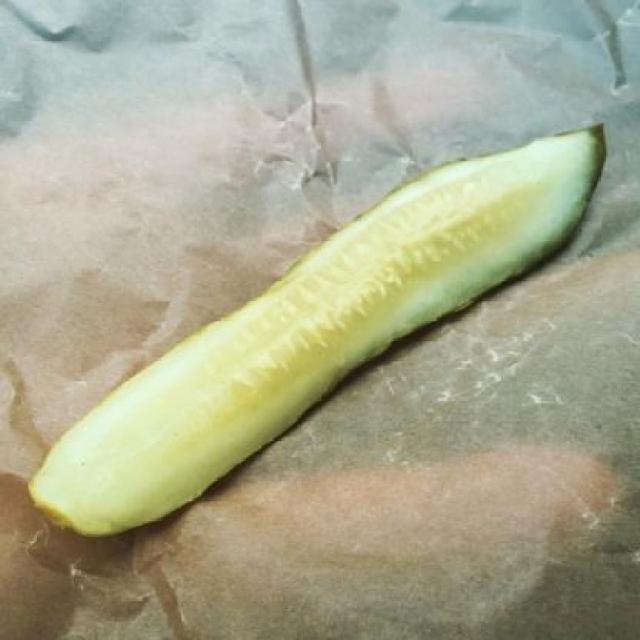Zucchini: (20, 102, 562, 516)
